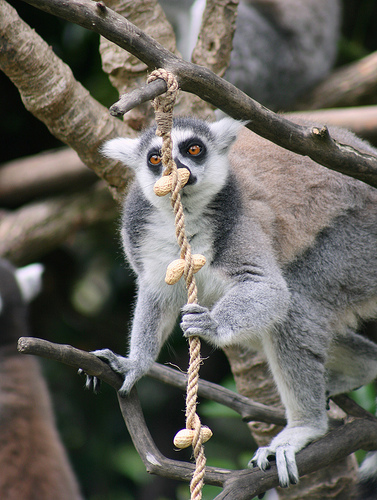cat: (77, 116, 375, 485)
